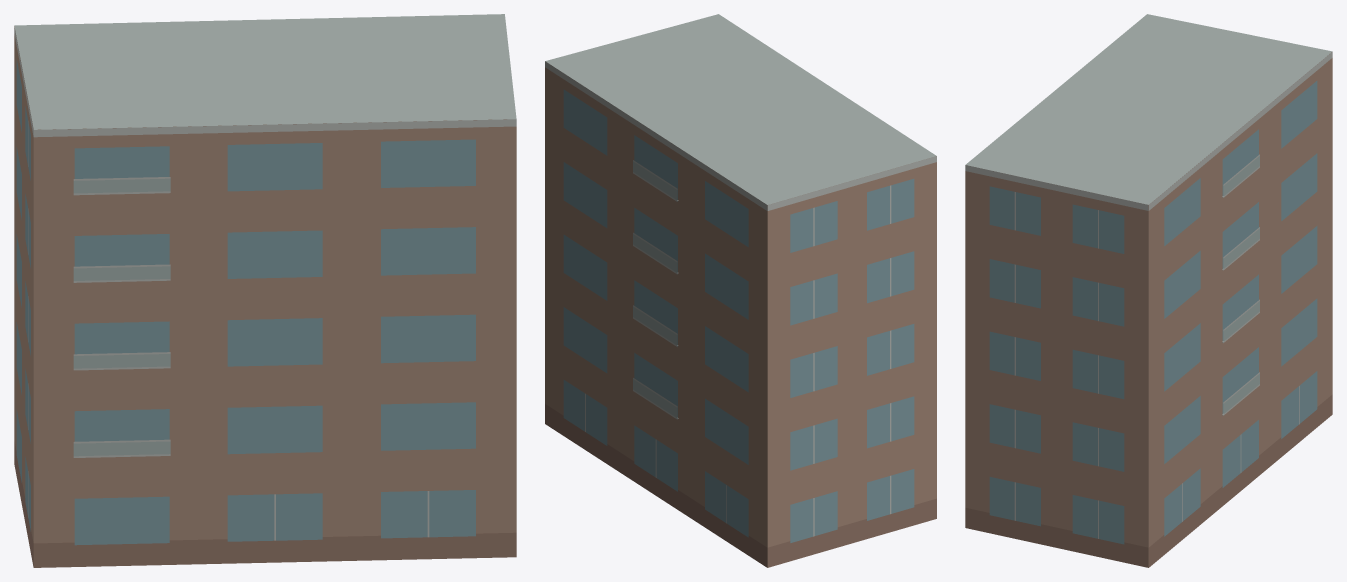
File: survey-upis-32852735.glb
3 renders of one model, left to right at view 1: azimuth 30°, elevation 25°; view 2: azimuth 150°, elevation 25°; view 3: azimuth 270°, elevation 25°, orthographic. The views are drawn at different scales.
Visible parts, largest first — view 1: survey-upis-32852735.tmp; view 2: survey-upis-32852735.tmp; view 3: survey-upis-32852735.tmp.
Boxes of the visible parts, x1,y1,x2,y2 form: survey-upis-32852735.tmp: (14, 14, 516, 567); survey-upis-32852735.tmp: (545, 14, 936, 567); survey-upis-32852735.tmp: (965, 14, 1332, 567).
Size of the model in its own units: 16.36 by 14.5 by 13.31.
